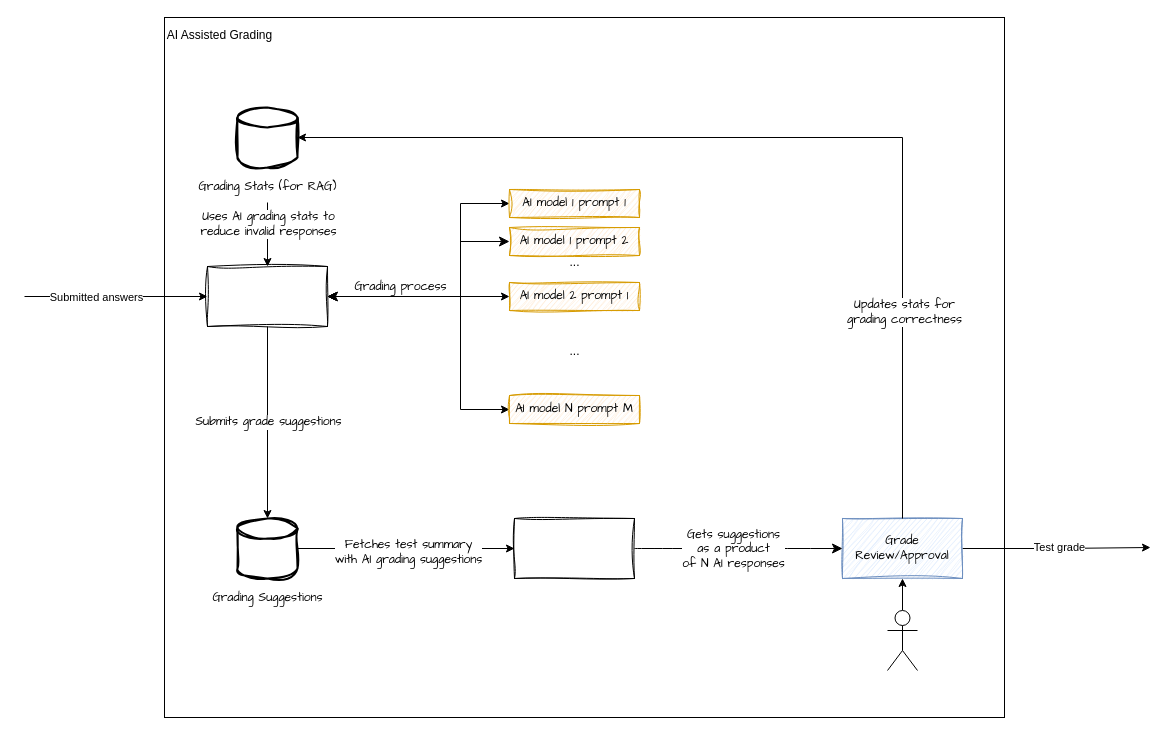
Some shapes in this 1176 by 735 pixel diagram are drawn without their labels. The shapes that lost their labels are listed below. From the top down, each one's centre as x and y in pixels, then its label:
At [267,296]: "AI Prompter".
At [574,548]: "Suggestions aggregator".
At [902,640]: "Employed Expert Software Architects".
